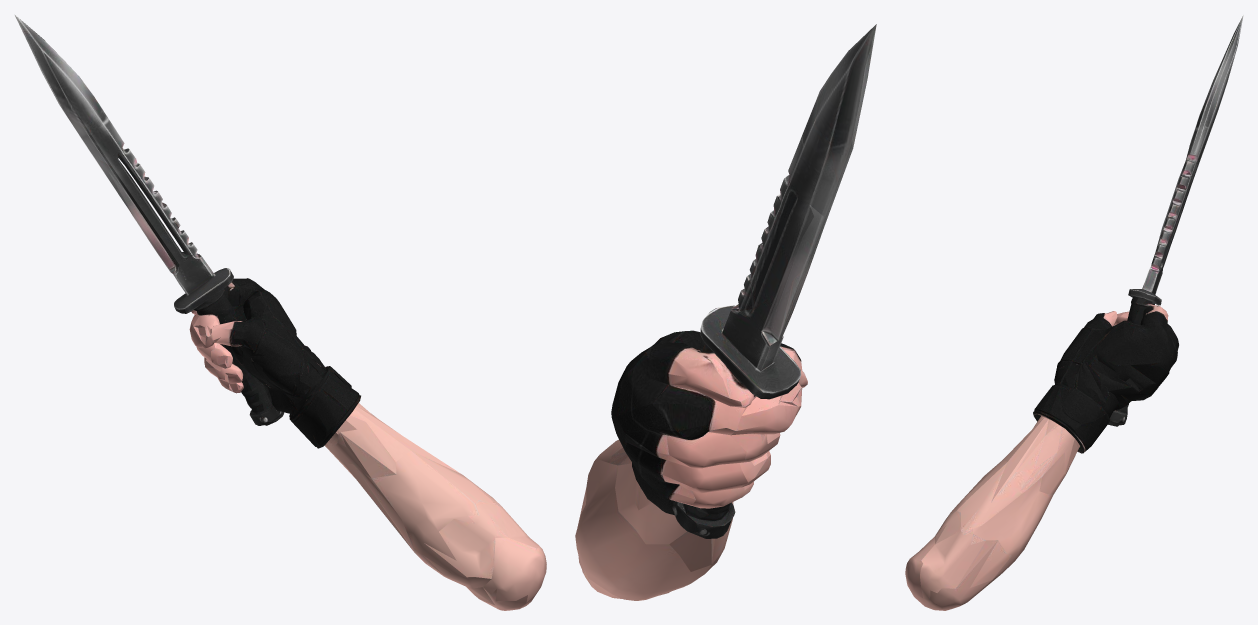
File: arm_knife.glb
3 renders of one model, left to right at view 1: azimuth 30°, elevation 25°; view 2: azimuth 150°, elevation 25°; view 3: azimuth 270°, elevation 25°, orthographic. The views are drawn at different scales.
Visible parts, largest first — view 1: output_unwrapped; view 2: output_unwrapped; view 3: output_unwrapped.
Part boxes in pixels (x1=…): output_unwrapped: x1=14, y1=14, x2=546, y2=610; output_unwrapped: x1=575, y1=24, x2=876, y2=600; output_unwrapped: x1=905, y1=15, x2=1243, y2=610.
Bounding box in the file's own units: 1.28 × 1.9 × 1.26.
Materials: 1 (1 with a texture image).
